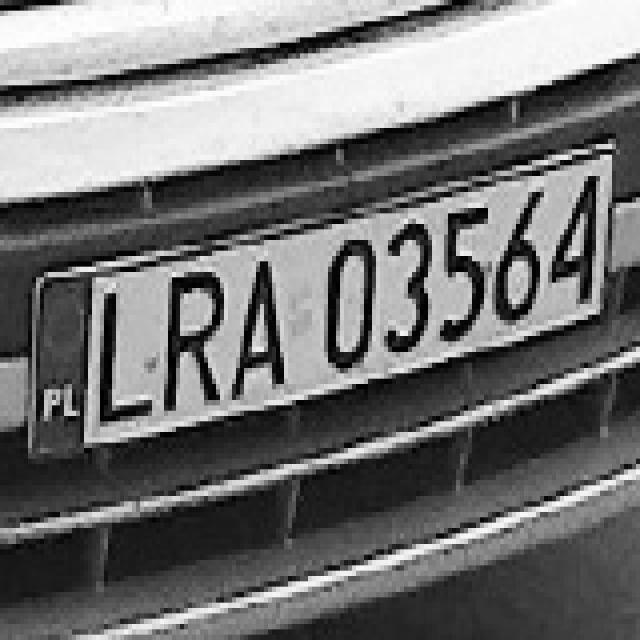License_Plate: (31, 140, 614, 448)
